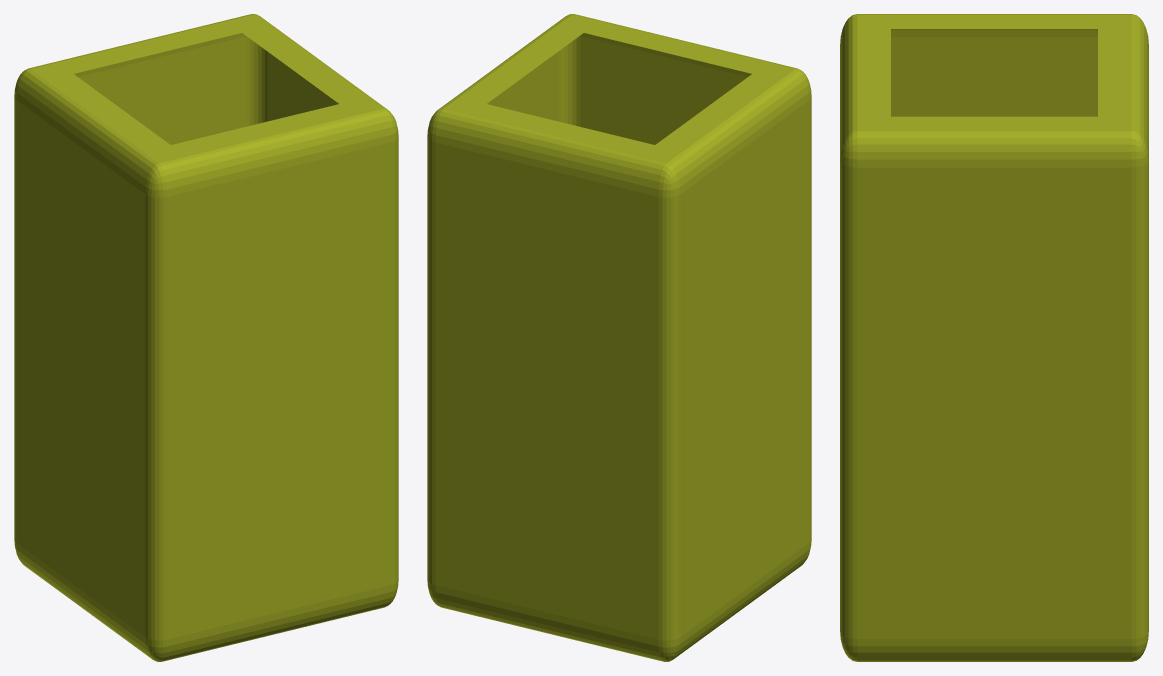
The model's file is basura_1.fbx.
The picture shows the model from 3 angles, left to right: view 1: azimuth 30°, elevation 25°; view 2: azimuth 150°, elevation 25°; view 3: azimuth 270°, elevation 25°; orthographic projection. The views are drawn at different scales.
Parts seen in each view (by area): view 1: BASURA 4; view 2: BASURA 4; view 3: BASURA 4.
Part boxes in pixels (bbox=[...]): BASURA 4: bbox=[14, 14, 398, 661]; BASURA 4: bbox=[427, 14, 811, 661]; BASURA 4: bbox=[840, 14, 1148, 661].
Bounding box in the file's own units: 200 × 379 × 200.
